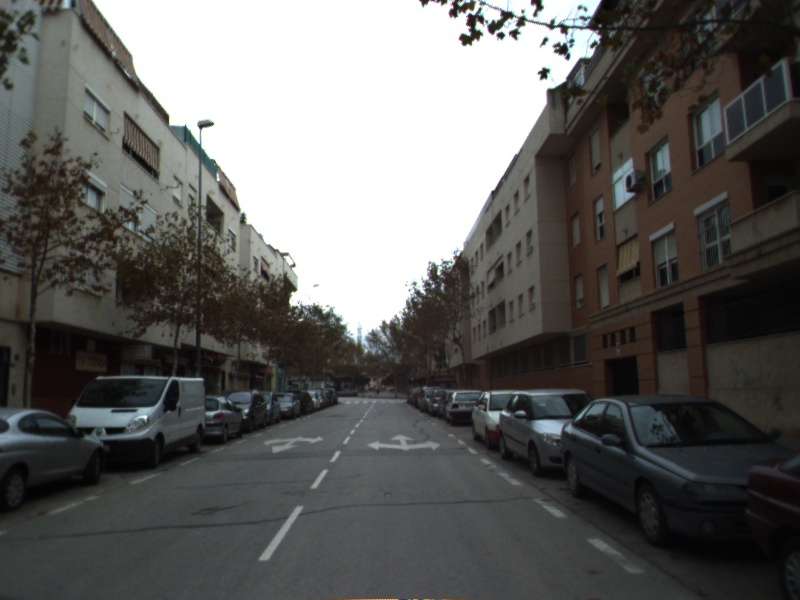STRAIGHT_LEFT_RIGHT: (365, 432, 444, 452)
